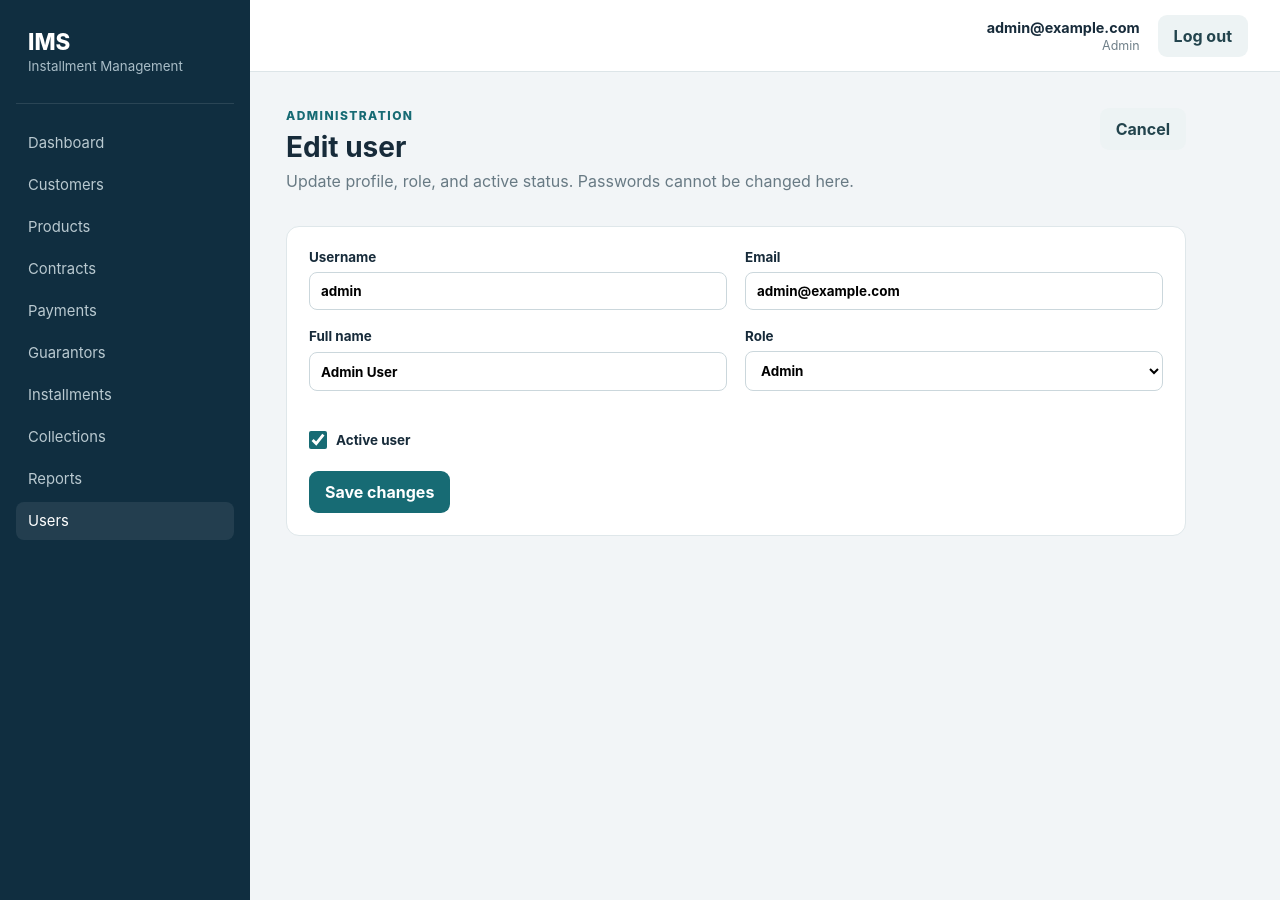
Test: Users management › shows backend last-admin conflict and does not bypass it
expect the field showing "Admin User" is shown: met, box top-left (309, 352), bottom-right (727, 391)
Select "Auditor" in the dropdown labelled "Role" at (954, 371), box top-left (745, 351), bottom-right (1163, 391)
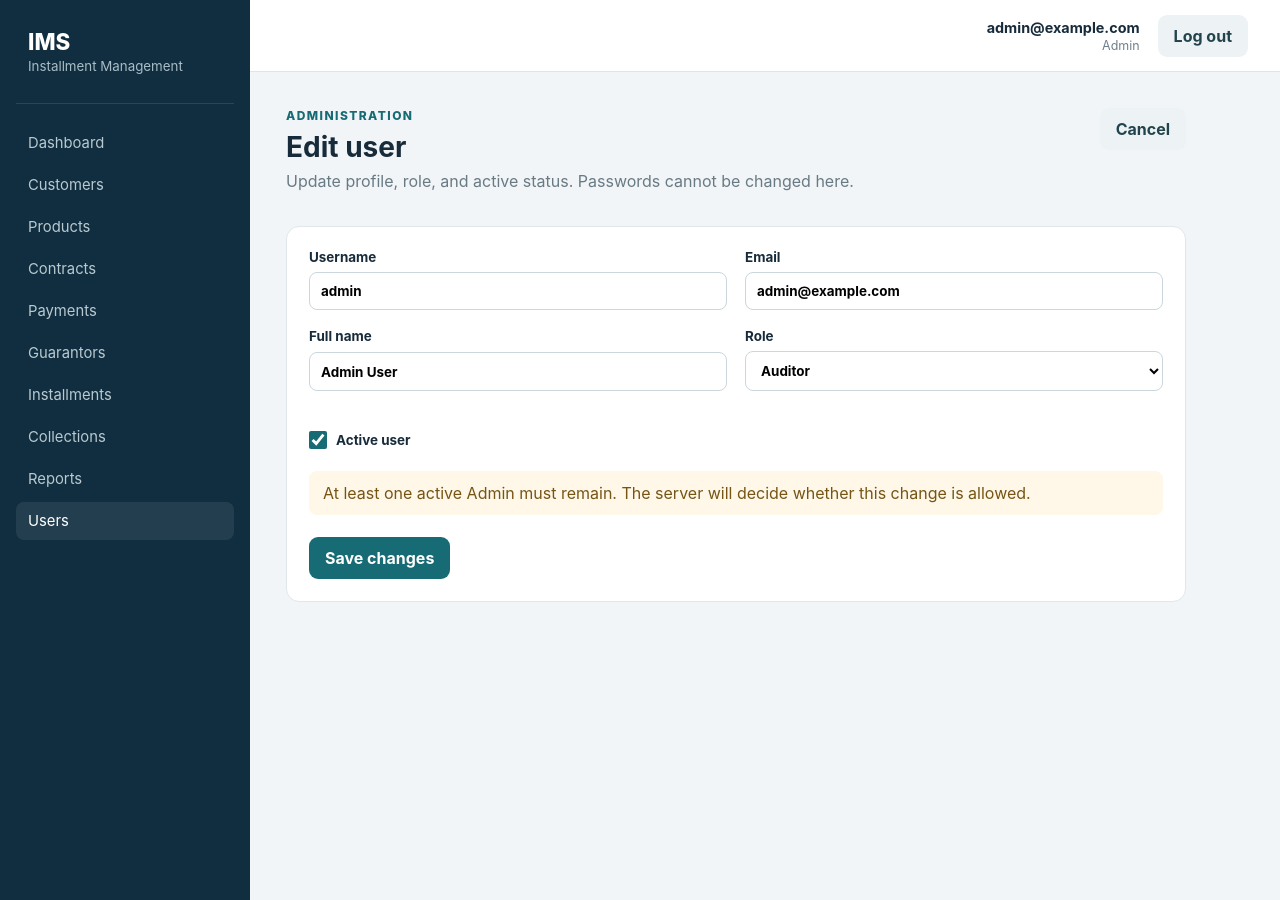
expect the text "At least one active Admin must remain" is shown: met, box top-left (323, 483), bottom-right (1031, 503)
Click the button "Save changes" at (380, 558), box top-left (309, 537), bottom-right (450, 579)
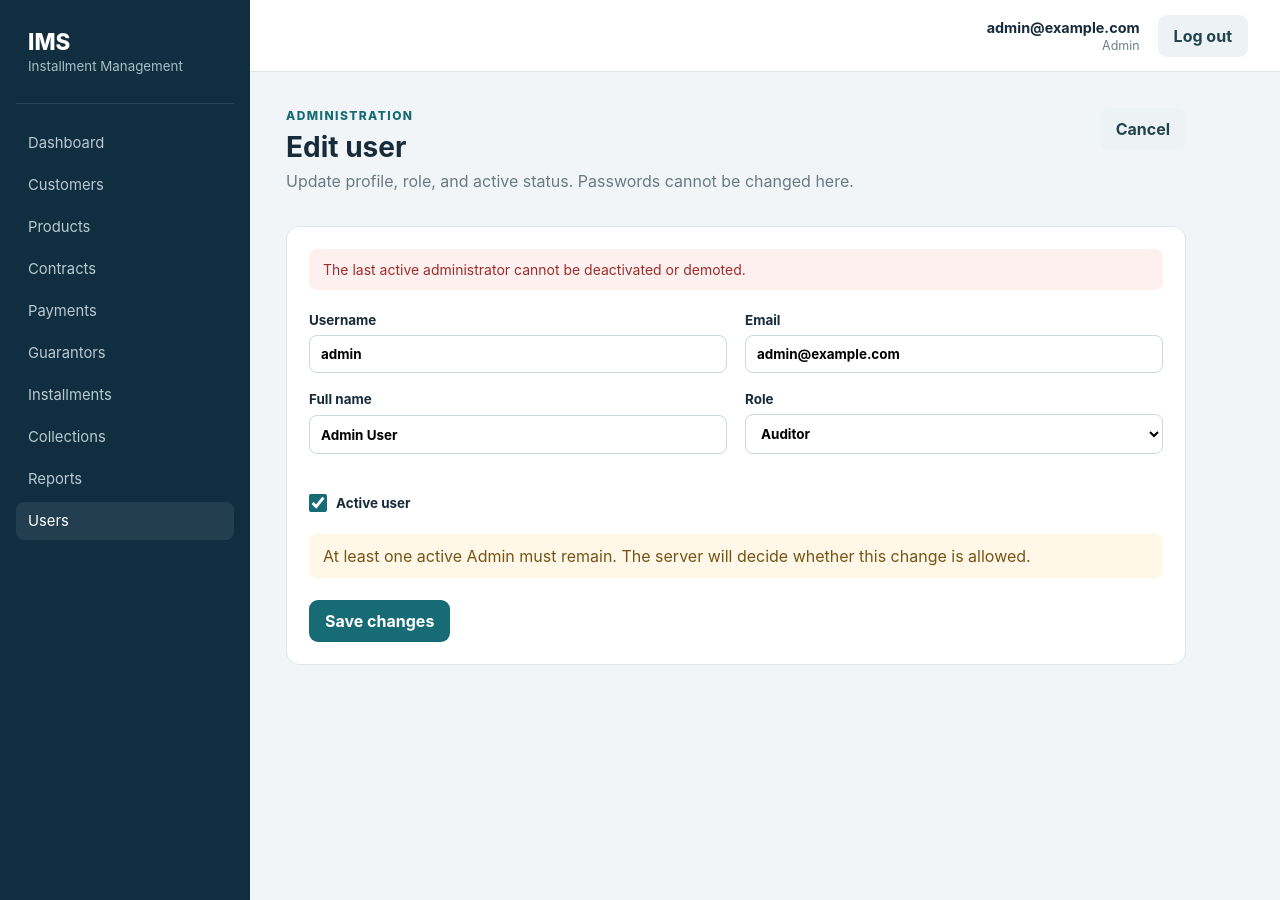
expect the message shows "last active administrator": met, box top-left (323, 261), bottom-right (746, 278)
